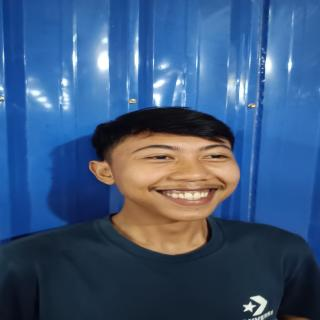Senang: (101, 129, 248, 225)
